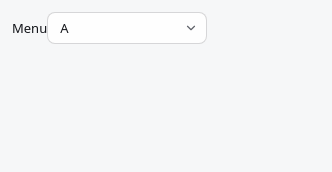
Test: Popups over the title bar › menus and Selects are not drag regions
This screenshot has width=332, height=172.
Click the button "Menu" at (30, 28), box top-left (12, 18), bottom-right (47, 38)
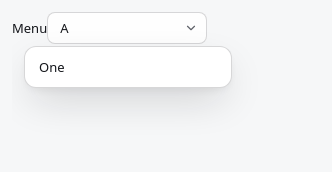
Press Escape
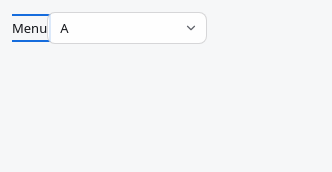
Click the dropdown named "Pick" at (127, 28), box top-left (47, 12), bottom-right (207, 44)
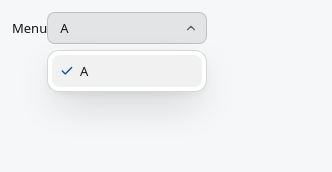
Expected: the list is shown, top-left (47, 50), bottom-right (207, 92)
